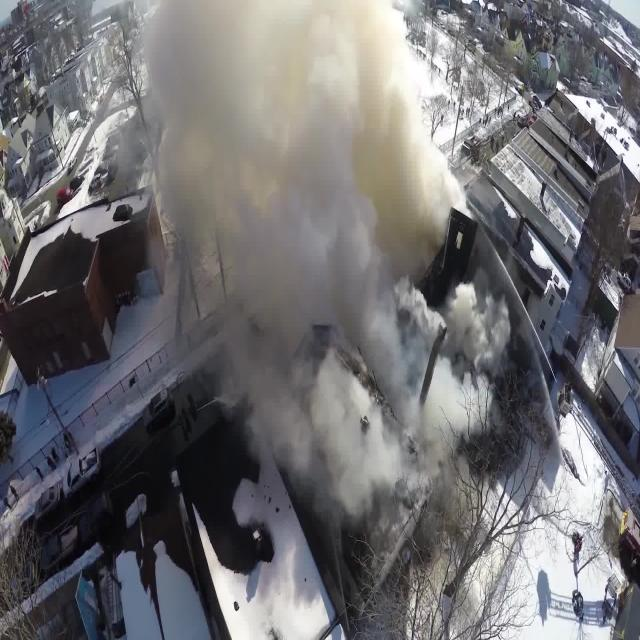Smoke: (136, 6, 513, 547)
